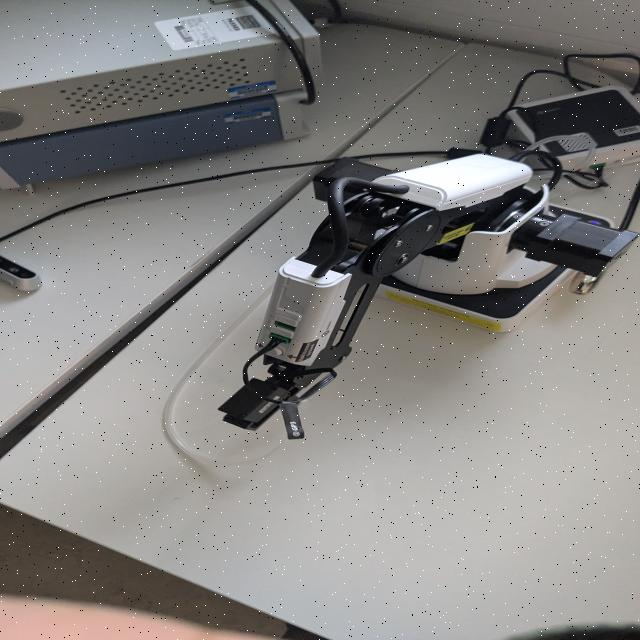Robot-end-effector-HF8z: (206, 376, 304, 439)
